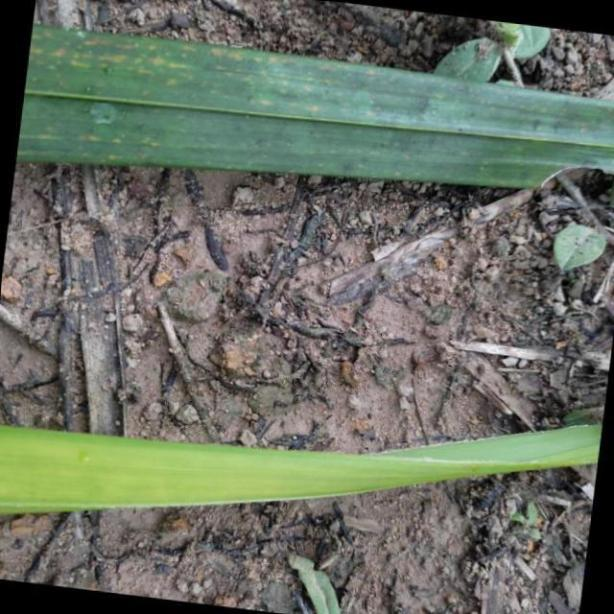nitrogen: (0, 418, 614, 516)
